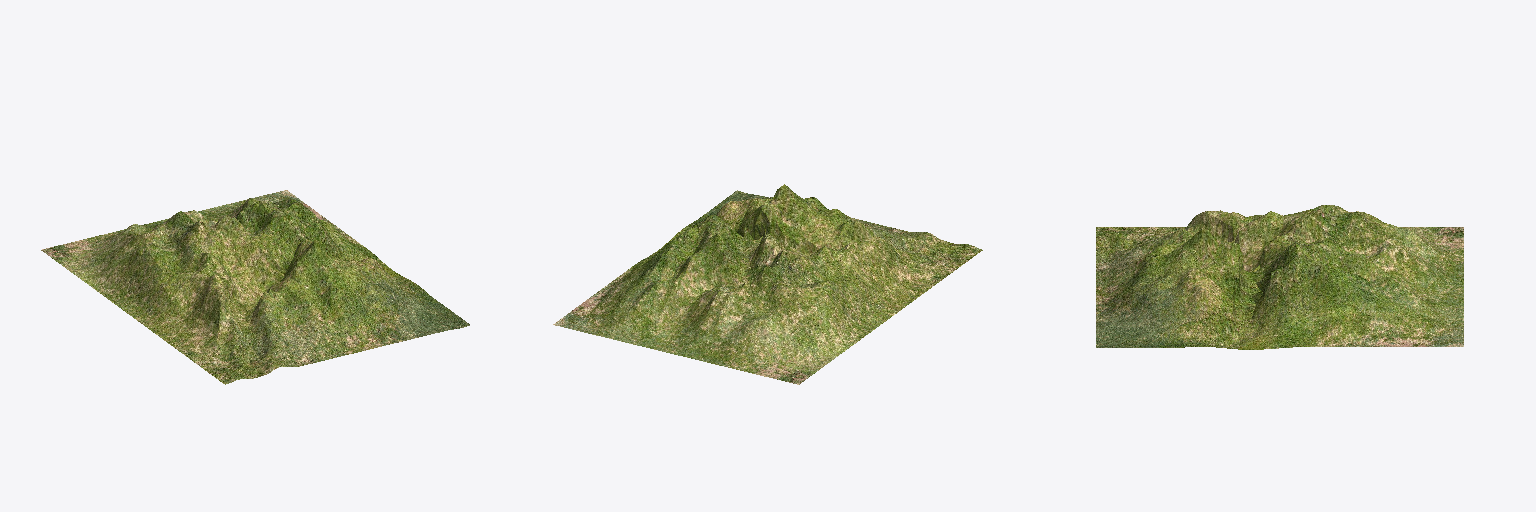
3 renders of one model, left to right at view 1: azimuth 30°, elevation 25°; view 2: azimuth 150°, elevation 25°; view 3: azimuth 270°, elevation 25°, orthographic.
Visible parts, largest first — view 1: Landscape; view 2: Landscape; view 3: Landscape.
Part boxes in pixels (bbox=[...]): Landscape: bbox=[41, 190, 469, 384]; Landscape: bbox=[553, 184, 982, 384]; Landscape: bbox=[1096, 205, 1463, 349].
Bounding box in the file's own units: 6.47 × 1.88 × 8.39.
1 materials, 1 textured.